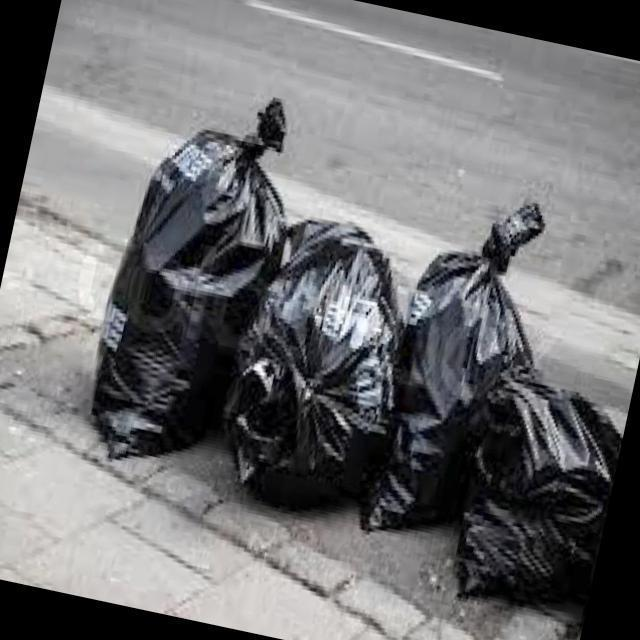garbage: (54, 63, 640, 623)
